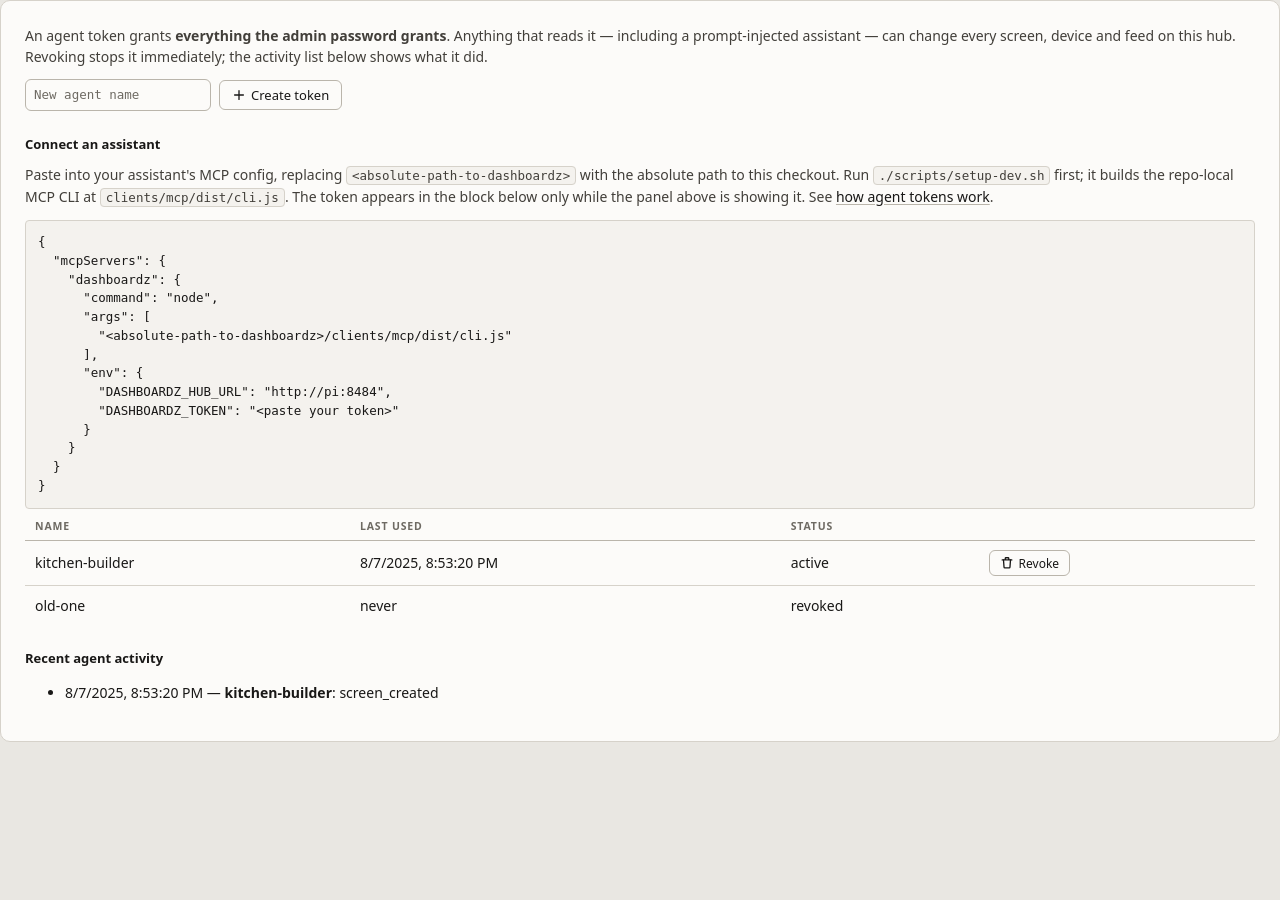
Test case: Agents page › lists tokens with status, shows the minted token once, states the blast radius
Check: the text "kitchen-builder" is shown, box 25,540 -> 350,585
Check: the text "revoked" is shown, box 781,585 -> 979,624
Type "new" into the field with placeholder "New agent name".
click(118, 95); type("new")  # box 25,79 -> 211,110
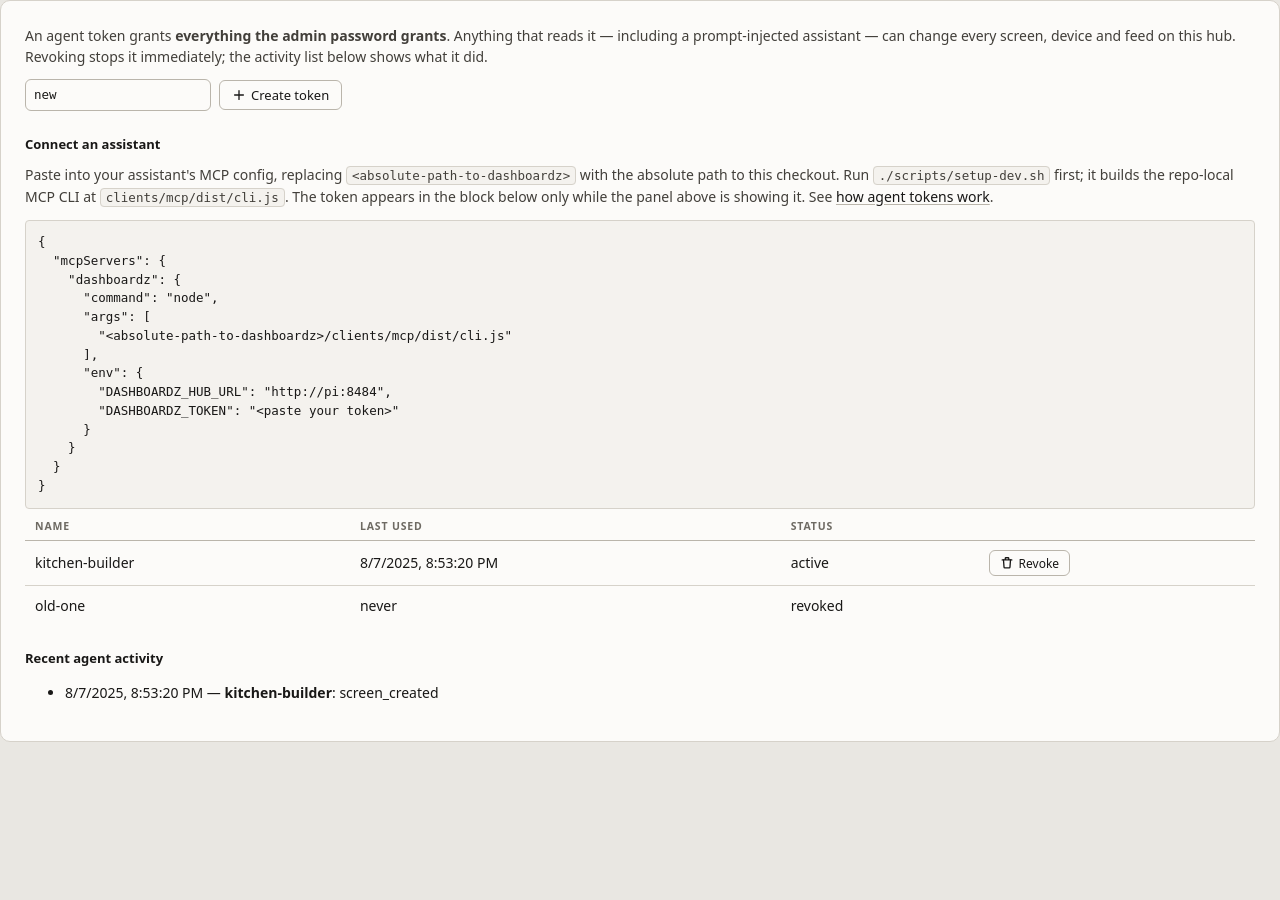
Click the button "Create token".
click(281, 95)  # box 219,80 -> 342,110
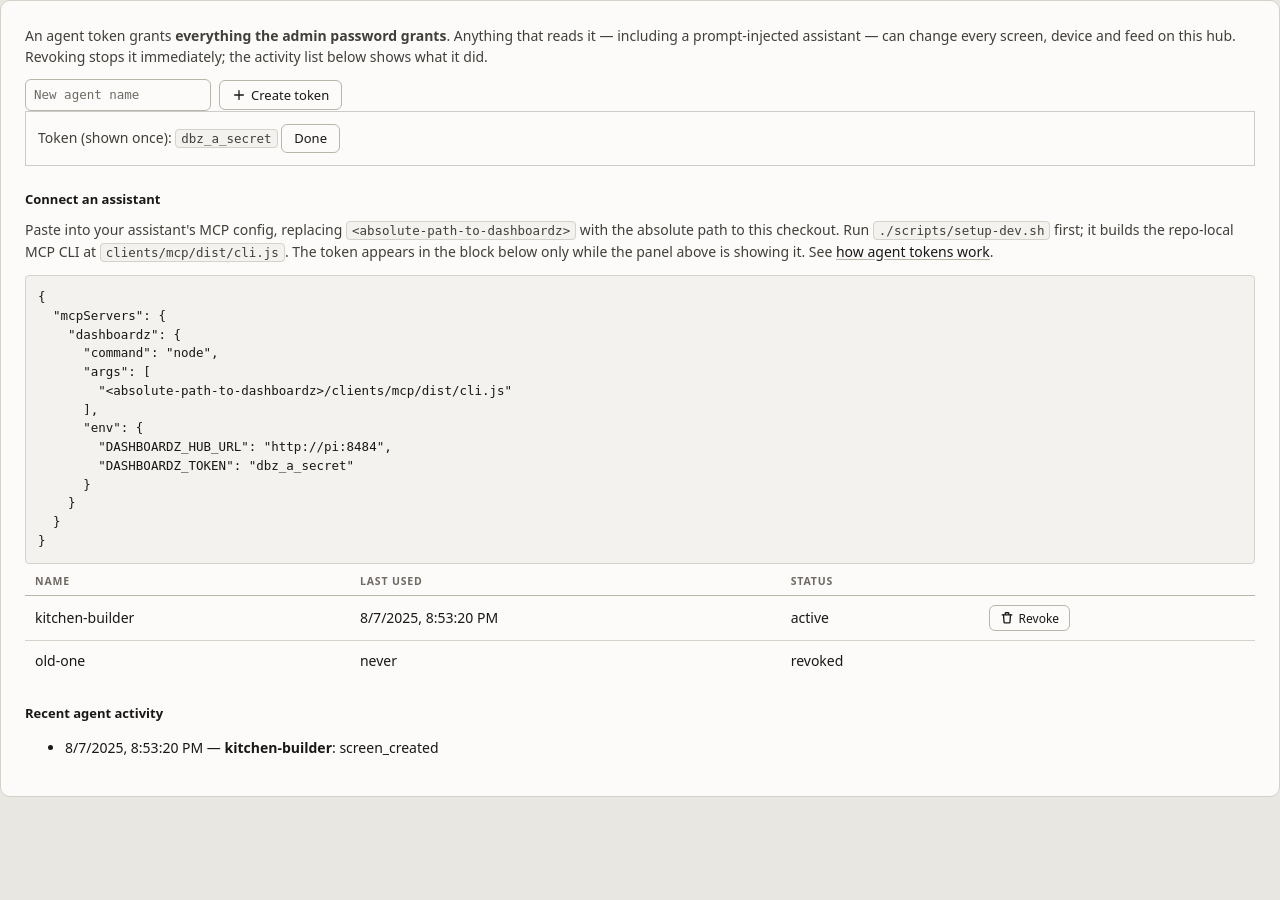
Check: the text "dbz_a_secret" is shown, box 175,128 -> 278,148
